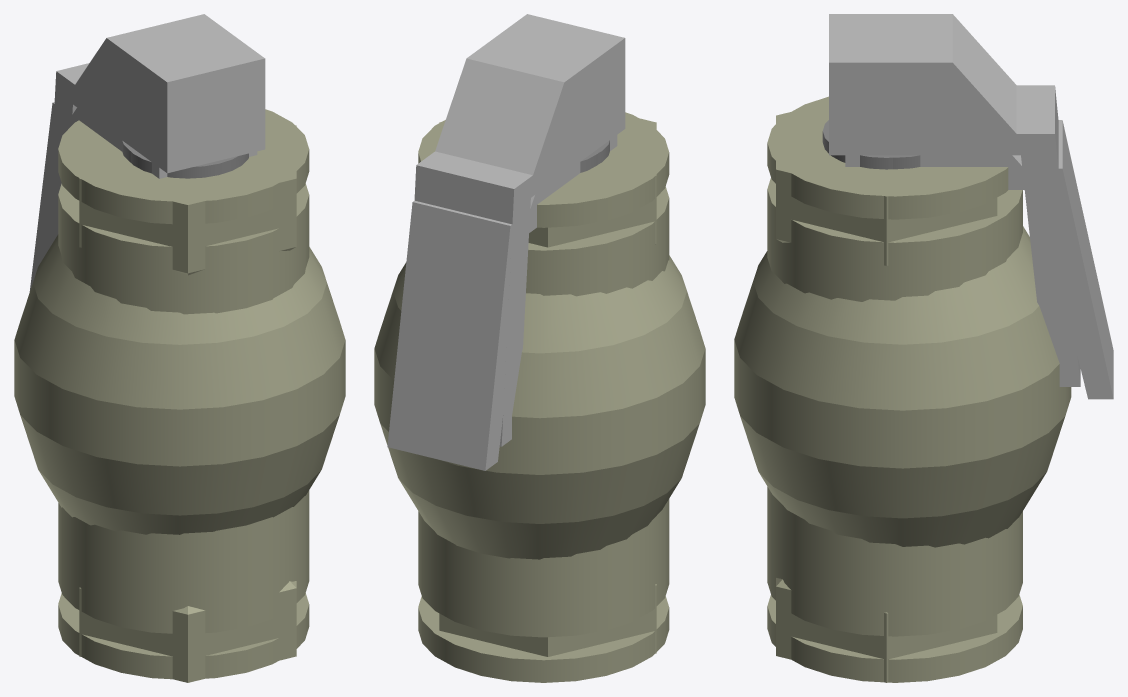
The model's file is gadgets.glb.
3 renders of one model, left to right at view 1: azimuth 30°, elevation 25°; view 2: azimuth 150°, elevation 25°; view 3: azimuth 270°, elevation 25°, orthographic.
Parts seen in each view (by area): view 1: Mesh1 Group2 Group1 Model (×3), Mesh2 Group3 Group1 Model (×3); view 2: Mesh1 Group2 Group1 Model (×3), Mesh2 Group3 Group1 Model (×3); view 3: Mesh1 Group2 Group1 Model (×3), Mesh2 Group3 Group1 Model (×3).
Boxes of the visible parts, box(x1,y1,x2,y2) form: Mesh1 Group2 Group1 Model (×3): box(14, 109, 345, 682); Mesh2 Group3 Group1 Model (×3): box(29, 14, 265, 291); Mesh1 Group2 Group1 Model (×3): box(374, 112, 705, 682); Mesh2 Group3 Group1 Model (×3): box(387, 14, 625, 470); Mesh1 Group2 Group1 Model (×3): box(734, 96, 1071, 682); Mesh2 Group3 Group1 Model (×3): box(829, 14, 1113, 399).
Bounding box in the file's own units: 0.0158 × 0.0306 × 0.0178.
